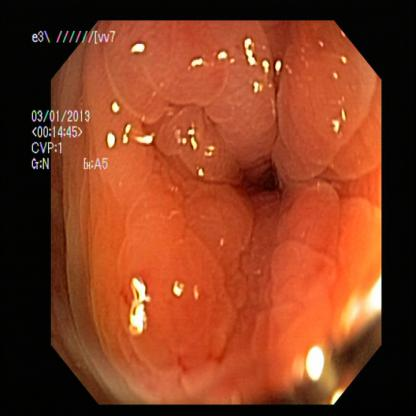Labels: (31, 29, 116, 174)
Polyps: (125, 205, 226, 352), (150, 35, 280, 144), (297, 54, 370, 189)
